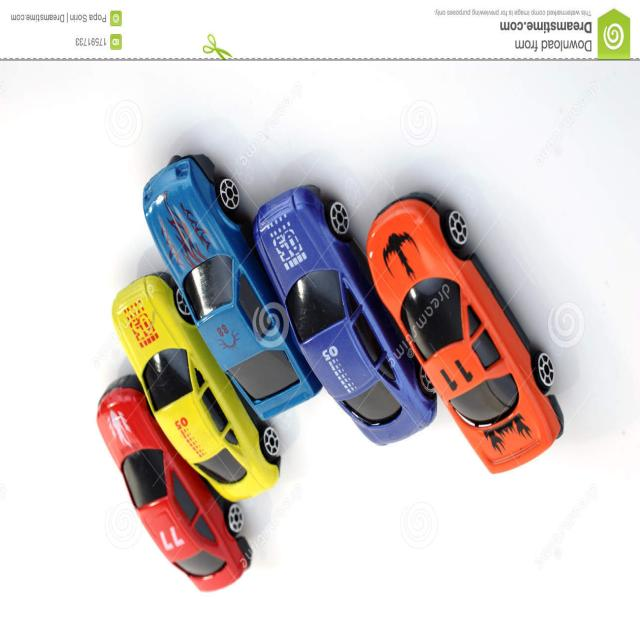Car: (366, 197, 565, 476), (253, 185, 438, 448), (143, 154, 324, 422), (112, 274, 282, 504), (96, 374, 254, 594)
